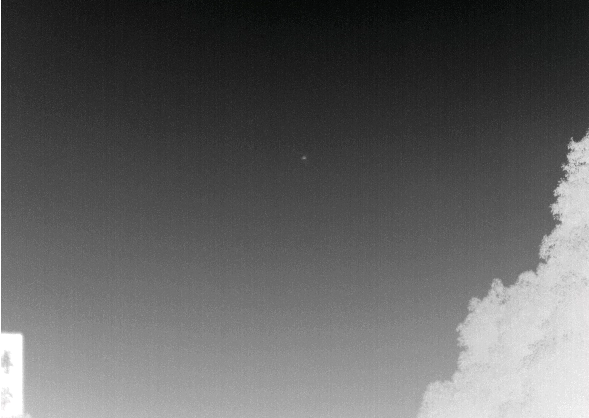dim target: (300, 155, 307, 160)
